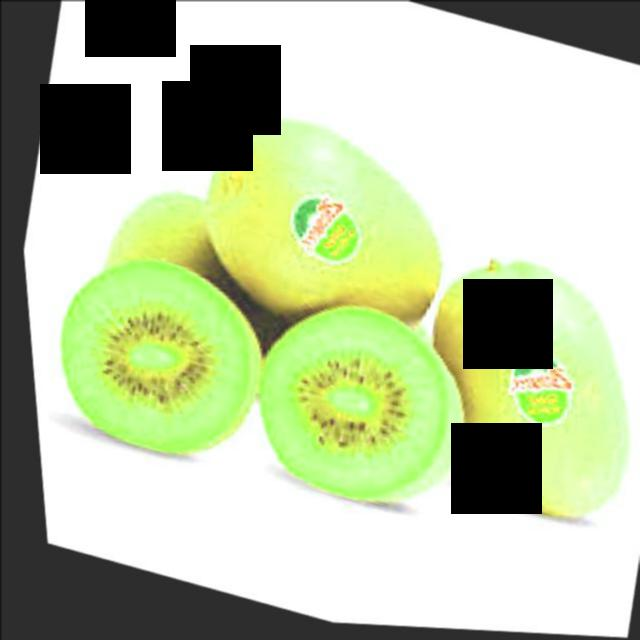kiwi: (384, 231, 640, 547)
